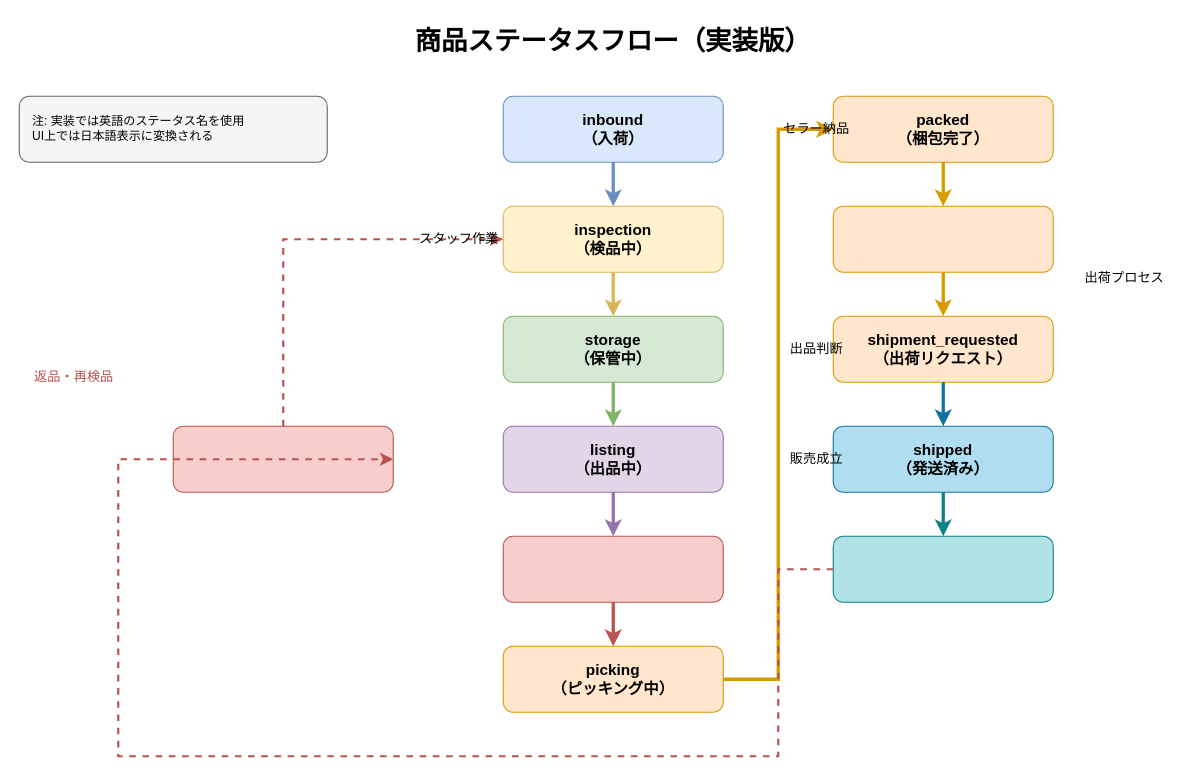
This 1199x784 diagram has some shape labels left out. Here are the shapes that lost their labels. From the top down, the centre of each, then its label:
At (942,238): "label_attached （ラベル貼付済み）".
At (282,458): "returned （返品）".
At (612,568): "ordered （受注済み）".
At (942,568): "delivered （配送完了）".
